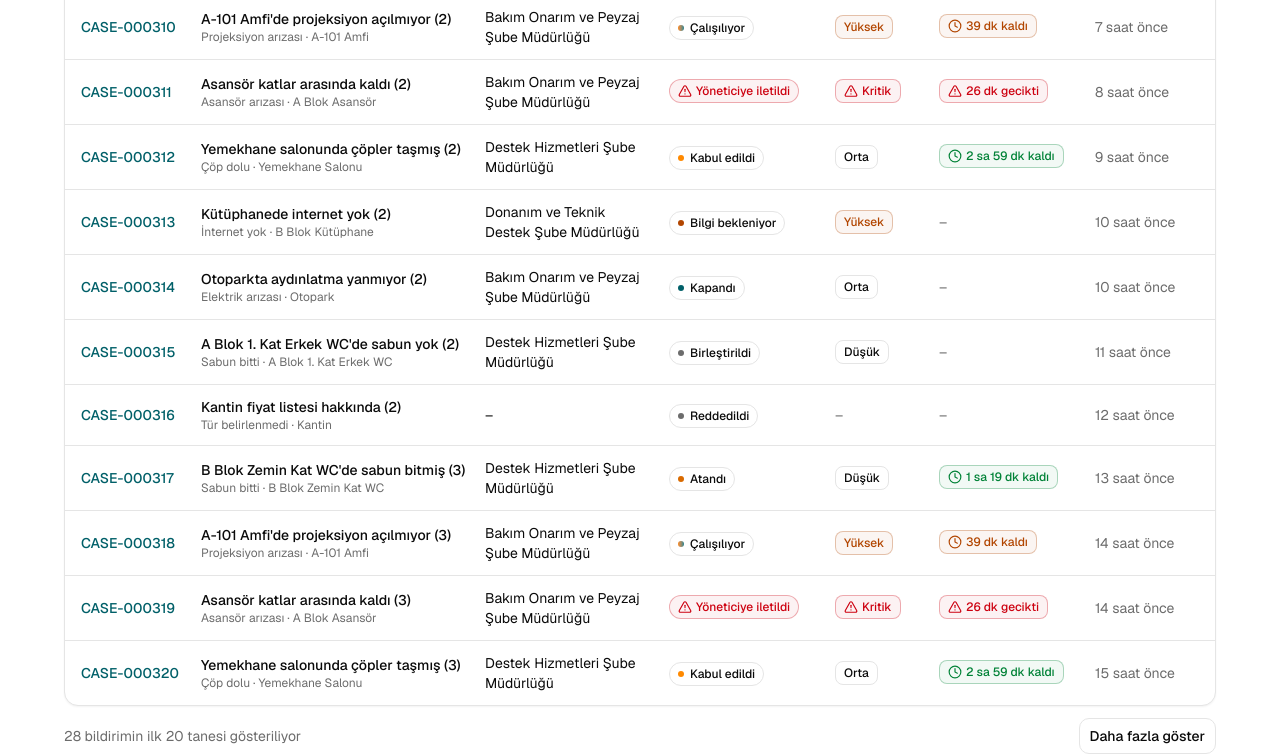
Test: CaseList › loads the rest on request and says how many are shown
(page scrolled)
Expected: the text "28 bildirimin ilk 20 tanesi gösteriliyor" is shown, [64, 726, 301, 746]
Click the button "Daha fazla göster": (1147, 736) [1079, 718, 1216, 753]
(page scrolled)
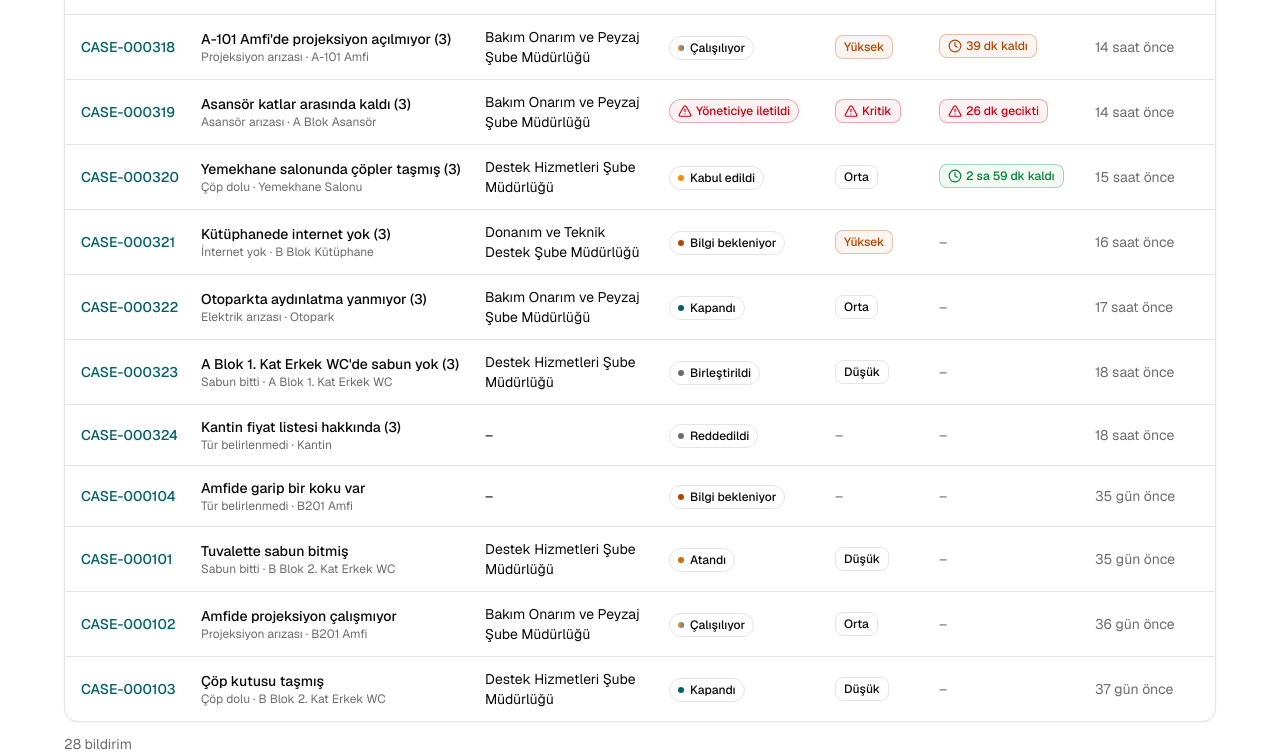
Expected: the text "28 bildirim" is shown, [64, 734, 132, 753]
Expected: the button "Daha fazla göster" is gone
